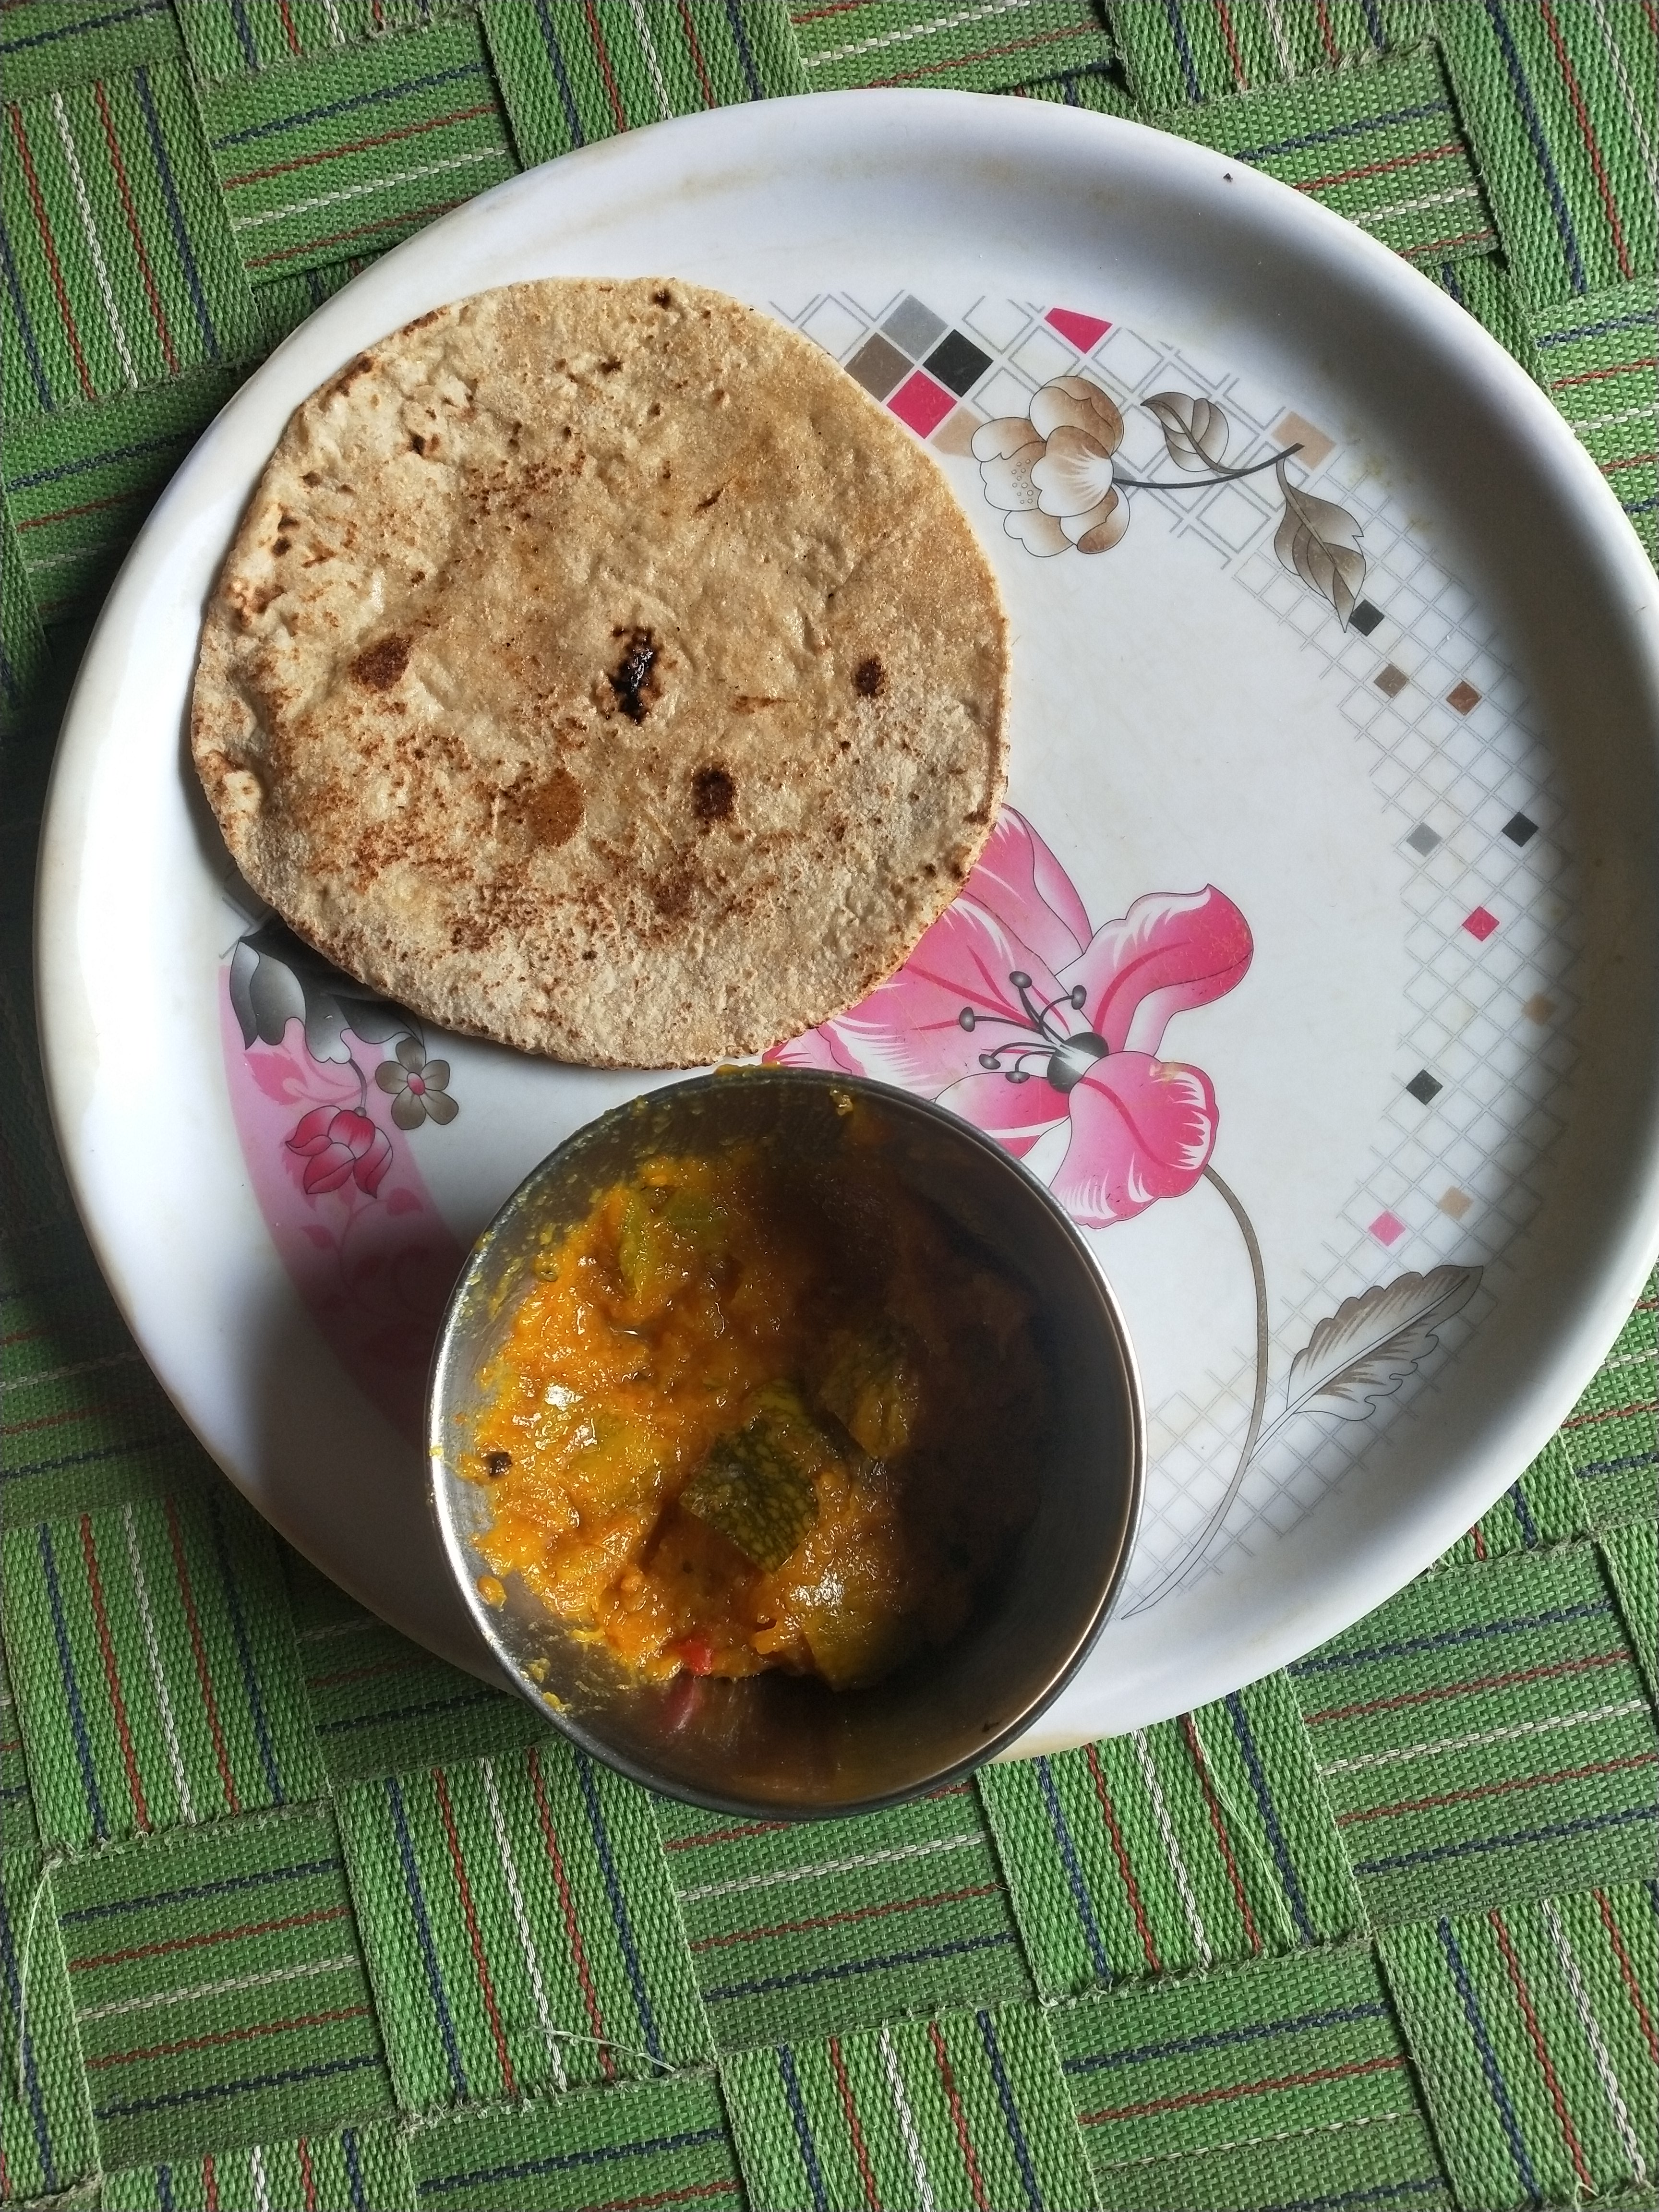food: (171, 265, 1079, 1737)
